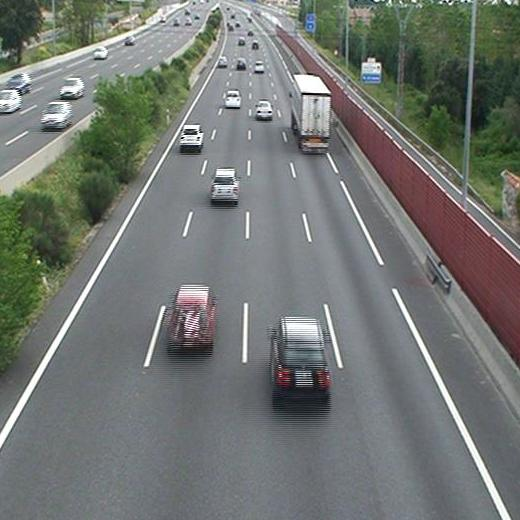car: (272, 319, 329, 394), (169, 284, 215, 342), (211, 169, 240, 200), (179, 124, 203, 145), (255, 100, 273, 119), (224, 92, 240, 107), (254, 61, 264, 73), (216, 57, 227, 67), (236, 58, 245, 69), (251, 40, 259, 50)
truck: (293, 74, 330, 153)
